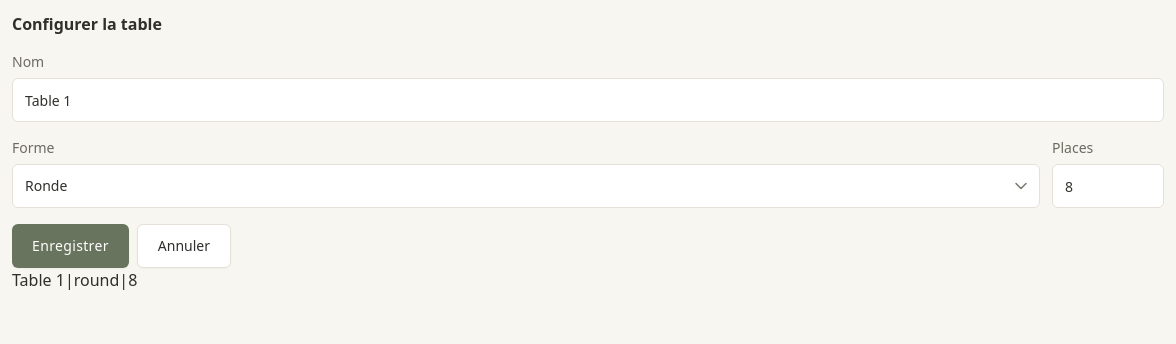
TableConfigSheet › rejects a duplicate name with an inline error
Replace the text in the field labelled "Nom" with "Table VIP" at x=588, y=100, box top-left (12, 78), bottom-right (1164, 122)
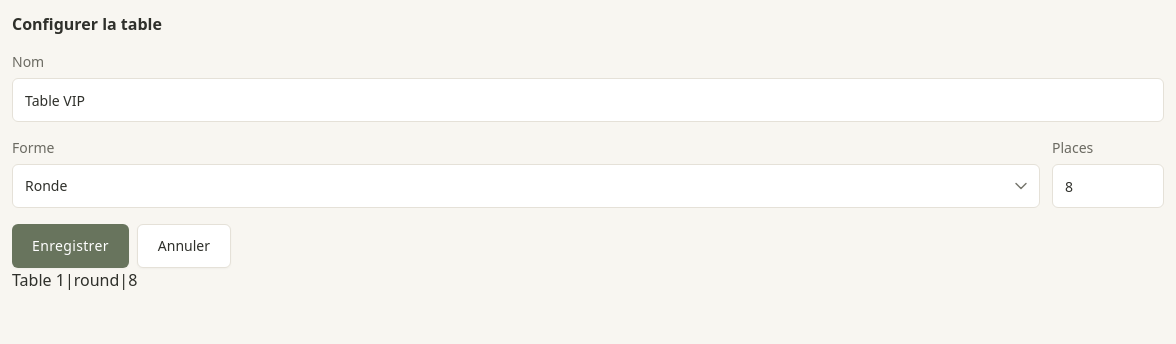
Submit the form
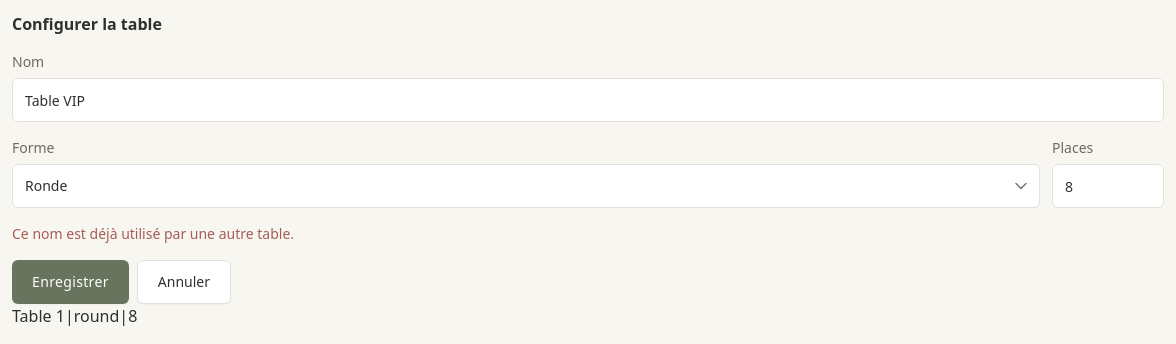
Expected: the list with test id "probe" reads "Table 1|round|8", top-left (12, 305), bottom-right (65, 327)
Expected: the message shows "déjà utilisé", top-left (12, 224), bottom-right (294, 243)
